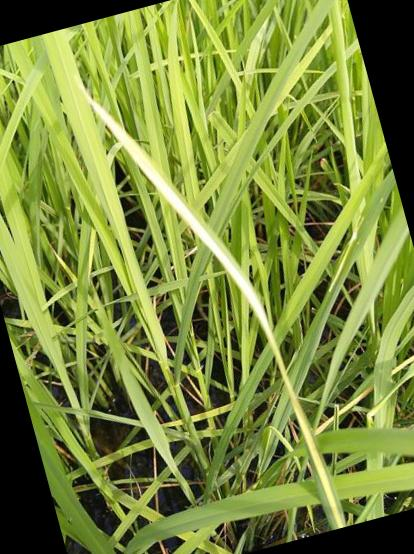Leaf Blight: (78, 85, 344, 530)
